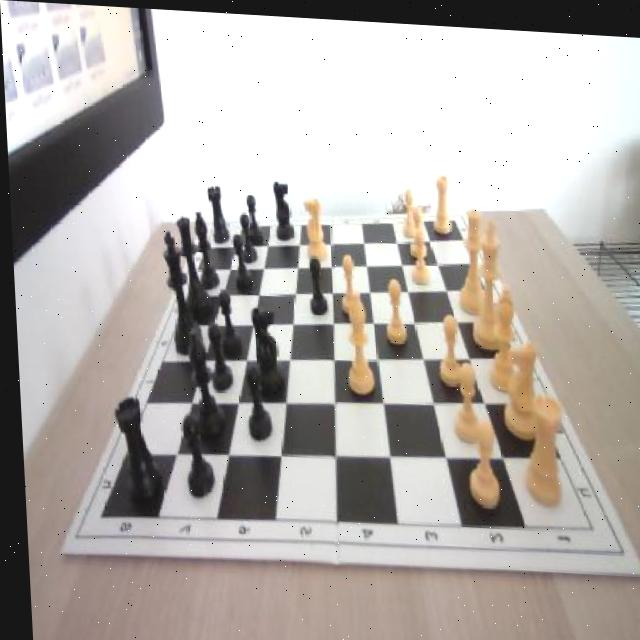bishop: (184, 323, 222, 442), (191, 207, 216, 289)
black-bishop: (159, 227, 200, 354)
black-king: (245, 298, 286, 394), (270, 177, 294, 239)
black-knight: (178, 411, 210, 496), (239, 364, 268, 443), (204, 320, 231, 390), (215, 285, 238, 353), (303, 252, 324, 314), (229, 230, 250, 288), (238, 209, 255, 263), (243, 191, 260, 242)
black-pawn: (173, 212, 210, 319)
black-queen: (110, 393, 160, 503), (205, 183, 226, 241)
black-rook: (480, 280, 521, 387), (340, 289, 372, 393)
white-bishop: (464, 214, 509, 348)
white-king: (497, 333, 540, 437), (302, 192, 330, 259)
white-knight: (461, 415, 497, 506), (446, 354, 480, 440), (432, 308, 463, 385), (379, 271, 406, 340), (336, 252, 358, 312), (408, 225, 429, 282), (397, 183, 418, 234), (405, 202, 425, 252)
white-pawn: (452, 202, 489, 310)
white-queen: (518, 386, 562, 501), (429, 169, 450, 232)
